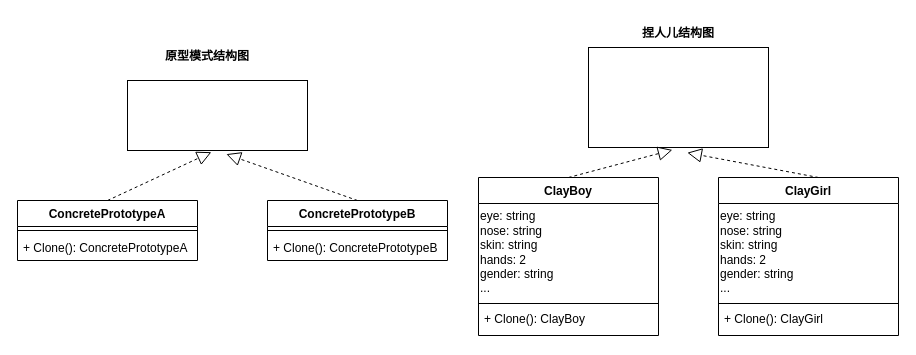
Image size: 916x355. Some labels were removed from this diagram. The shapes that lost their labels are listed below. From the top down, each one's box as (x1, y1, x2, y2) in pixels, then its label:
(126, 80, 308, 150): <<Interface>> Prototype + Clone(): Prototype
(588, 46, 768, 148): <<Interface>> ClayPerson eye nose skin gender hands ... + Clone(): ClayPerson
